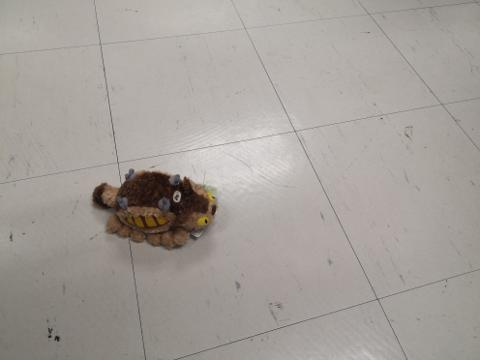nekobus: (87, 163, 222, 251)
